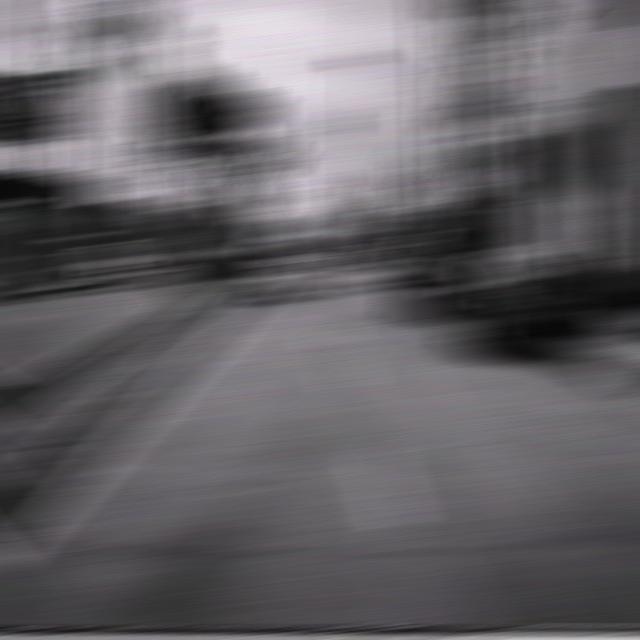speedLimit35: (138, 137, 184, 189)
